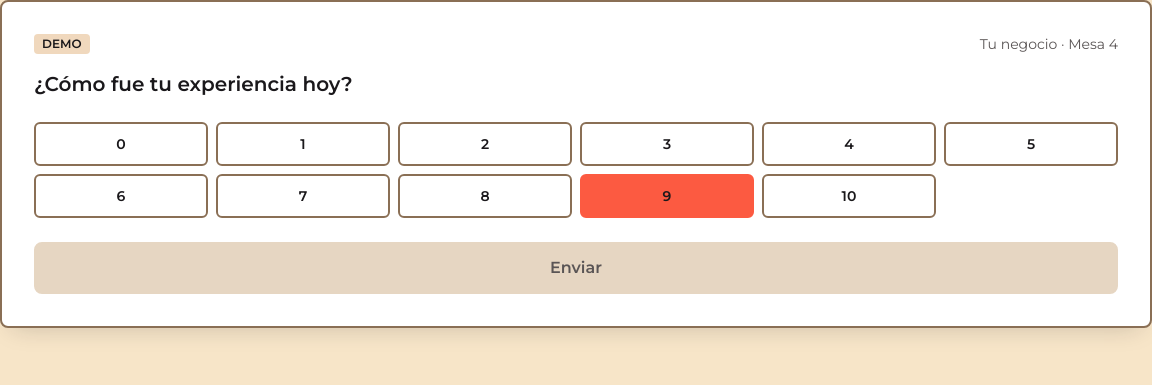
SurveyCard › selecting then submitting displays honest demo status without success claim
# Select a value
Click the radio button labelled "7": (303, 196) [216,174,390,218]
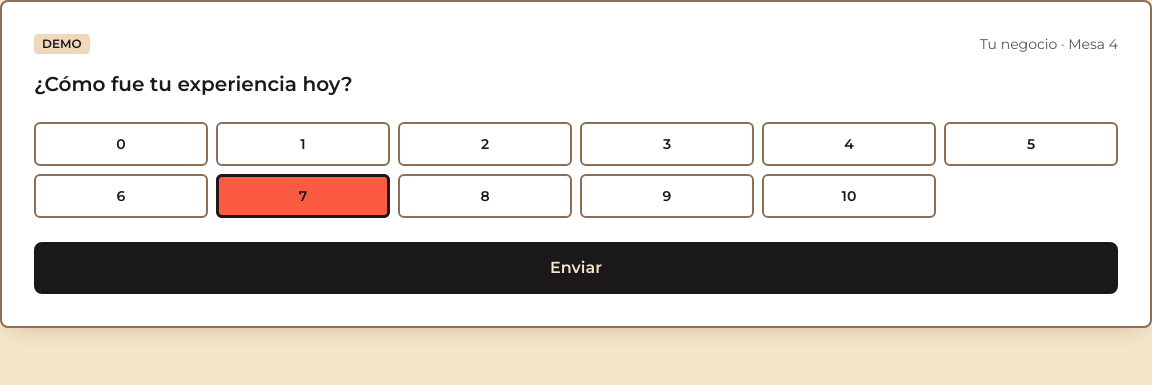
Now the button "Enviar" is enabled
Click the button "Enviar": (576, 268) [34,242,1118,294]
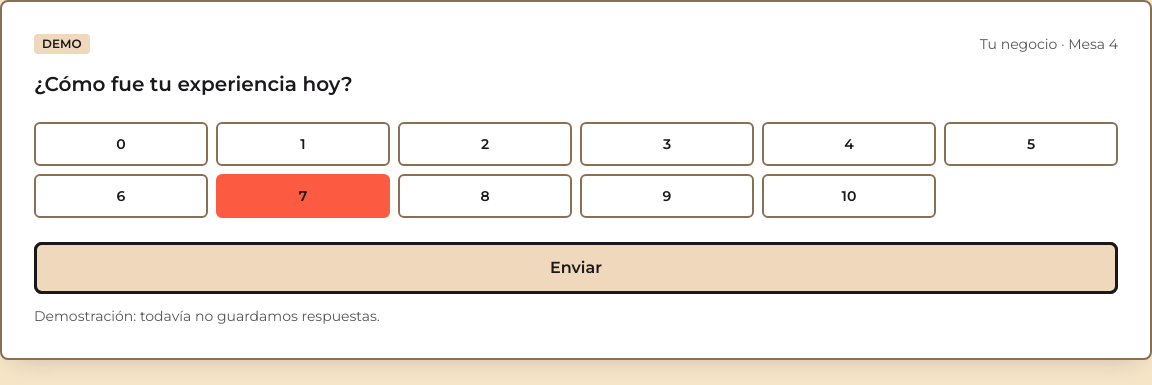
Expected: the message does not show "enviada", [34,307,380,325]
Now the message reads "Demostración: todavía no guardamos respuestas.", box [34,307,380,325]
